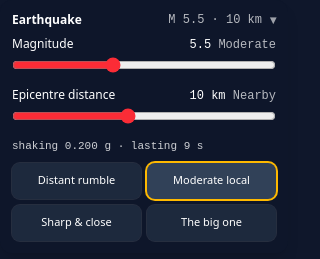
QuakeControls › a stronger quake shows a higher PGA in the readout
Set the slider named "Earthquake magnitude" to "7.5": (237, 65) left=12, top=57, right=276, bottom=73
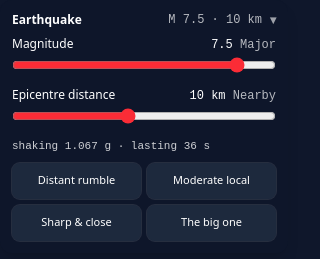
Expected: the text with test id "intensity-preview" reads "shaking 1.067 g · lasting 36 s", left=12, top=140, right=210, bottom=152
